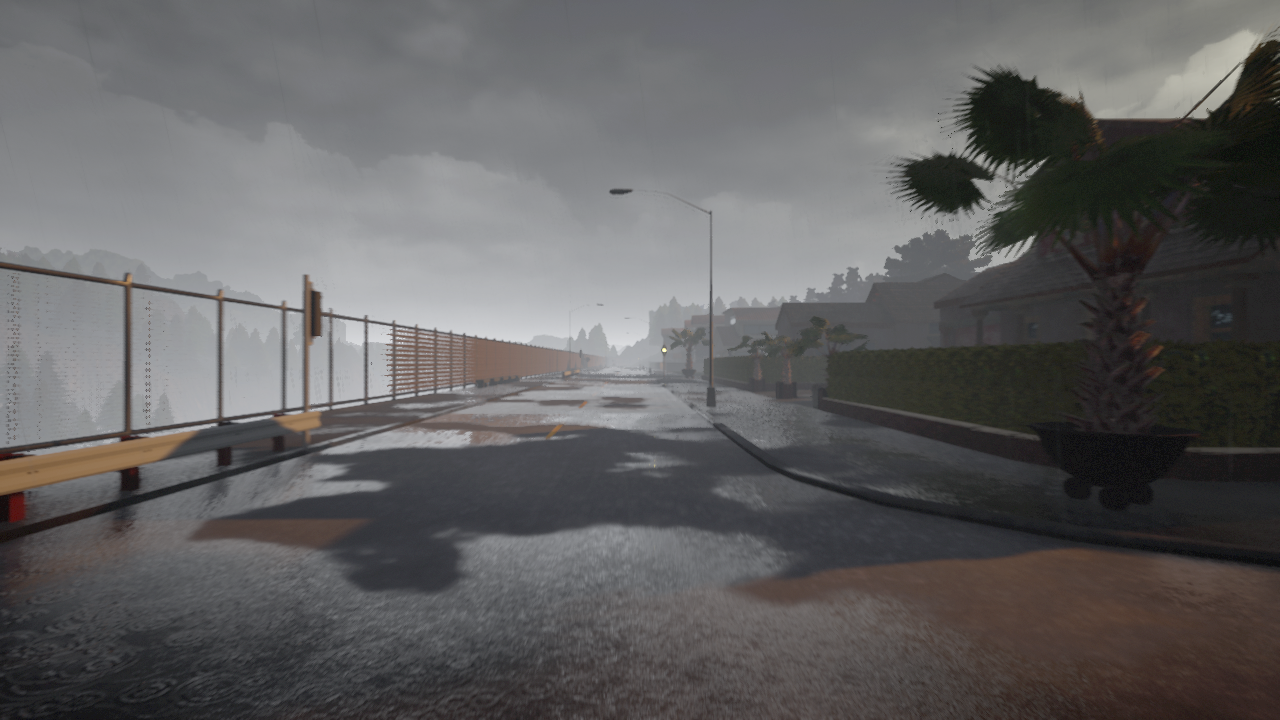yellow: (660, 345, 667, 357)
